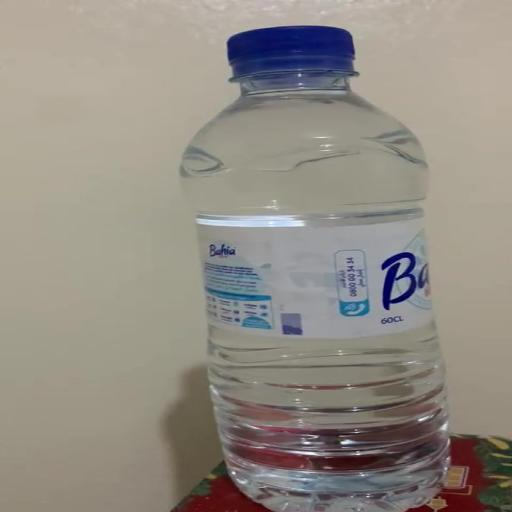bouteille conformite: (167, 16, 484, 512)
